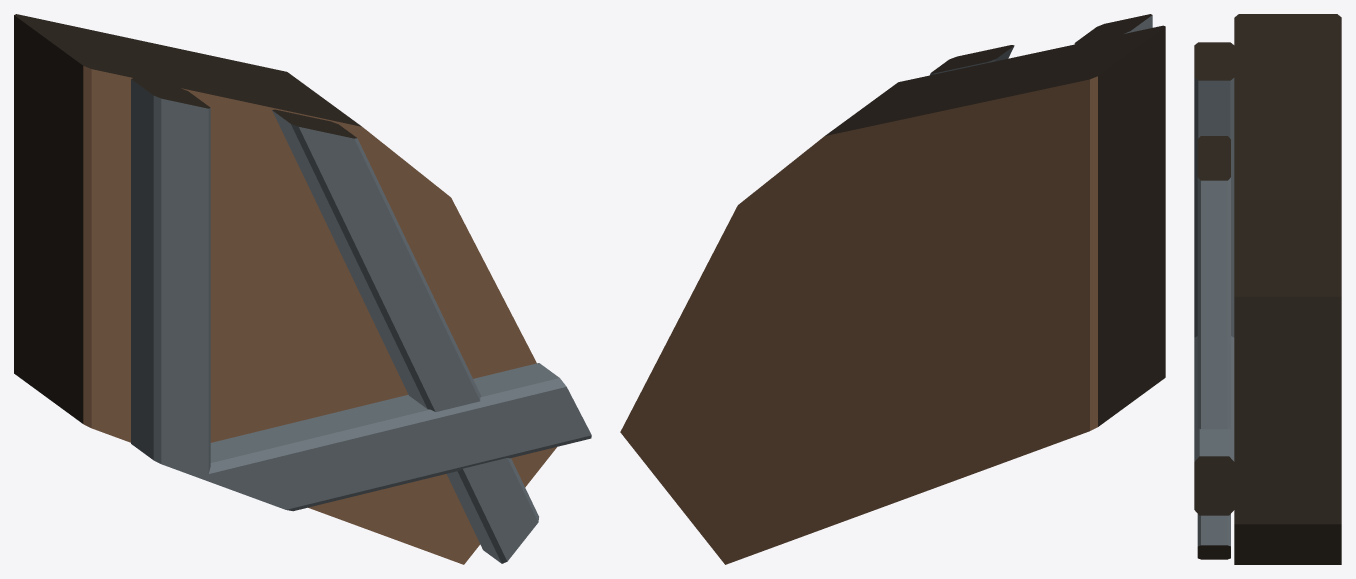
File: SM_DoorShard_01_15.fbx
3 views of the same model, side by side, from view 1: azimuth 30°, elevation 25°; view 2: azimuth 150°, elevation 25°; view 3: azimuth 270°, elevation 25° (orthographic). The views are drawn at different scales.
Parts seen in each view (by area): view 1: SM_DoorShard_01_15; view 2: SM_DoorShard_01_15; view 3: SM_DoorShard_01_15.
Boxes of the visible parts, x1,y1,x2,y2 form: SM_DoorShard_01_15: [14, 14, 591, 564]; SM_DoorShard_01_15: [620, 14, 1165, 564]; SM_DoorShard_01_15: [1194, 14, 1341, 564].
Bounding box in the file's own units: 59.5 × 22 × 69.07.
